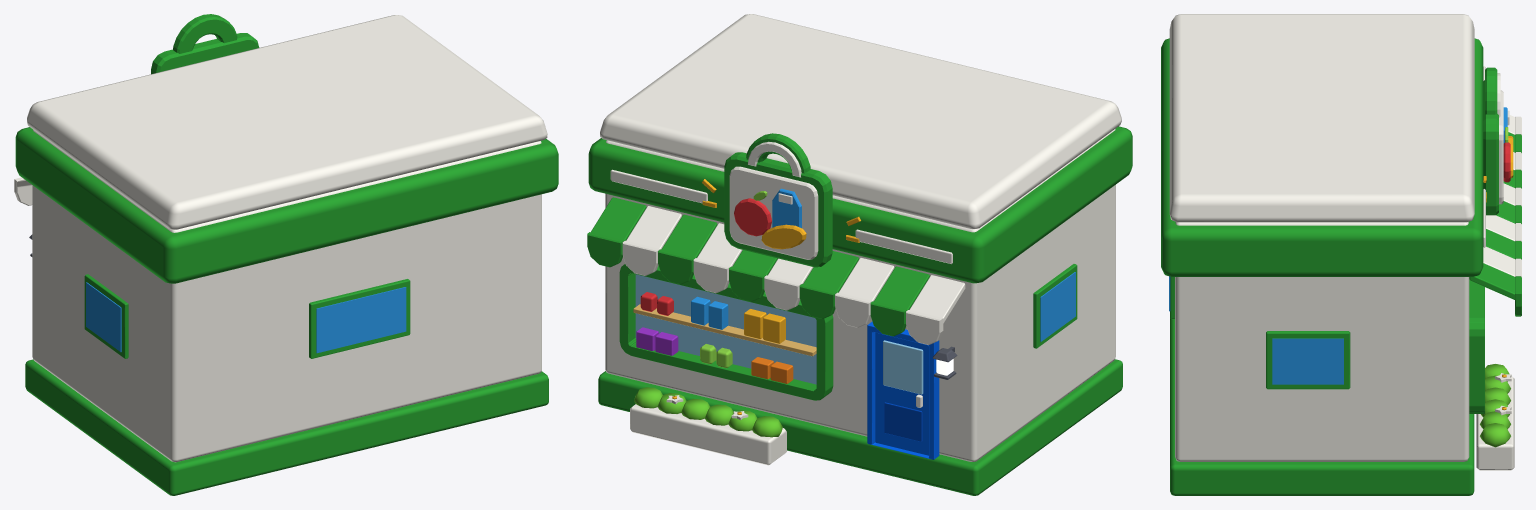
File: Grocery.glb
The picture shows the model from 3 angles, left to right: view 1: azimuth 30°, elevation 25°; view 2: azimuth 150°, elevation 25°; view 3: azimuth 270°, elevation 25°; orthographic projection. The views are drawn at different scales.
Parts seen in each view (by area): view 1: M_Grocery_WallWhite, M_Grocery_TruckGreen, M_Grocery_TruckCab; view 2: M_Grocery_WallWhite, M_Grocery_TruckGreen, M_Grocery_Glass, M_Grocery_ToyBlue, M_Grocery_TruckCab, M_Grocery_Leaves, M_Grocery_ToyYellow, M_Grocery_ToyRed, M_Grocery_Plank, M_Grocery_ToyBlueDark, M_Grocery_ToyPurple, M_Grocery_RoofOrange (+1 smaller); view 3: M_Grocery_WallWhite, M_Grocery_TruckGreen, M_Grocery_TruckCab, M_Grocery_Leaves.
Boxes of the visible parts, x1,y1,x2,y2 form: M_Grocery_WallWhite: (14,15,547,462); M_Grocery_TruckGreen: (15,14,558,495); M_Grocery_TruckCab: (86,282,406,353); M_Grocery_WallWhite: (600,14,1121,465); M_Grocery_TruckGreen: (587,126,1132,495); M_Grocery_Glass: (635,274,923,394); M_Grocery_ToyBlue: (867,321,939,459); M_Grocery_TruckCab: (691,188,1075,341); M_Grocery_Leaves: (634,387,782,437); M_Grocery_ToyYellow: (672,179,860,414); M_Grocery_ToyRed: (640,198,771,315); M_Grocery_Plank: (633,304,816,356); M_Grocery_ToyBlueDark: (884,402,922,441); M_Grocery_ToyPurple: (636,327,678,355); M_Grocery_RoofOrange: (751,357,793,383); M_Grocery_WallWhite: (1169,14,1521,470); M_Grocery_TruckGreen: (1161,38,1521,495); M_Grocery_TruckCab: (1169,107,1507,384); M_Grocery_Leaves: (1480,364,1510,447).
Size of the model in its own units: 13.4 by 10.45 by 10.3.
